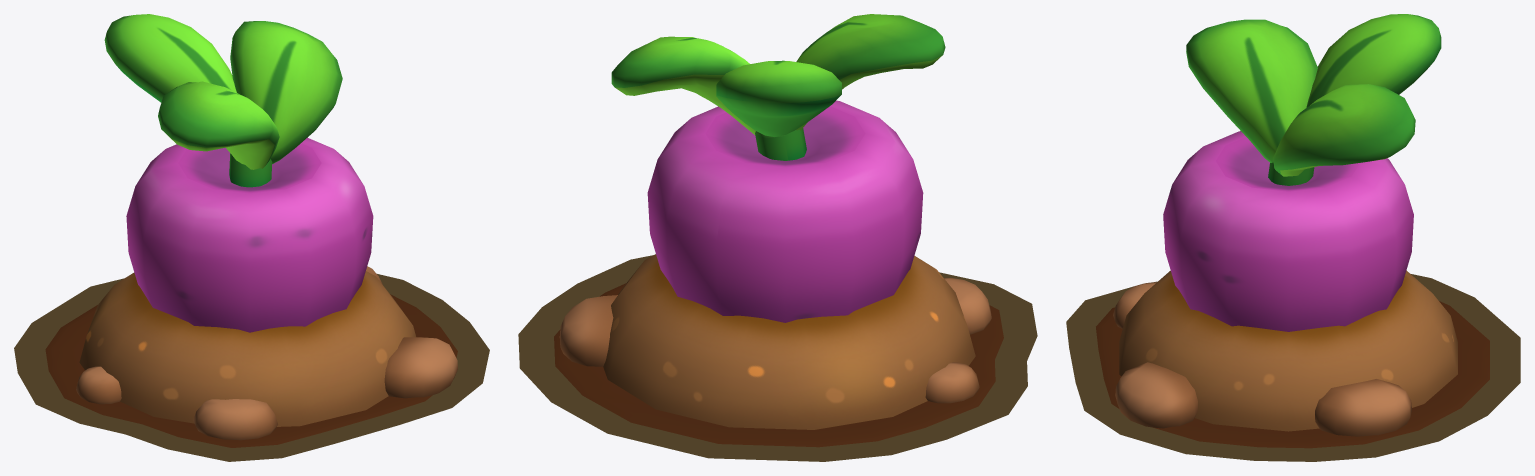
File: CarrotP_L02.fbx
3 renders of one model, left to right at view 1: azimuth 30°, elevation 25°; view 2: azimuth 150°, elevation 25°; view 3: azimuth 270°, elevation 25°, orthographic. The views are drawn at different scales.
Parts seen in each view (by area): view 1: CarrotP02_body, CarrotP02SDW; view 2: CarrotP02_body, CarrotP02SDW; view 3: CarrotP02_body, CarrotP02SDW.
Boxes of the visible parts, <box> form: CarrotP02_body: <box>45,14,457,447</box>; CarrotP02SDW: <box>14,274,489,461</box>; CarrotP02_body: <box>554,14,1003,447</box>; CarrotP02SDW: <box>518,255,1037,461</box>; CarrotP02_body: <box>1096,14,1489,448</box>; CarrotP02SDW: <box>1066,274,1520,461</box>.
Size of the model in its own units: 111 by 89.16 by 104.
2 materials, 1 textured.
